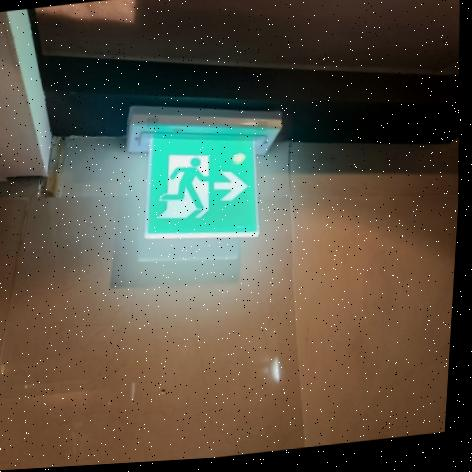emergency_exit: (126, 107, 283, 241), (143, 131, 261, 239)
